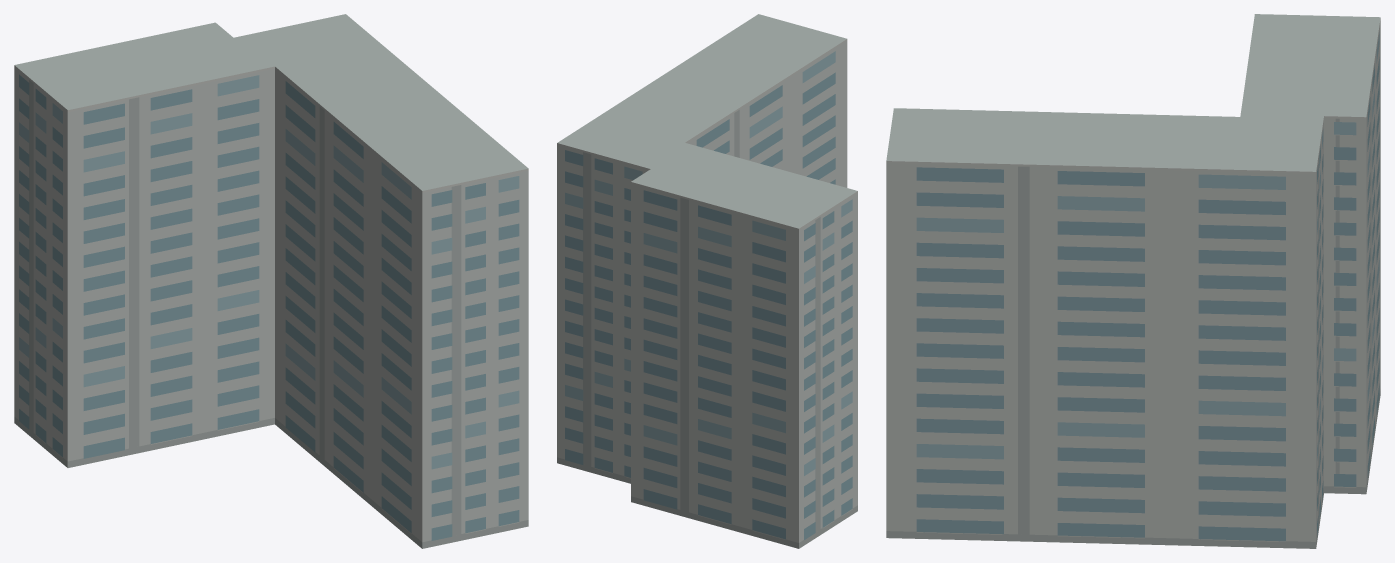
Rendered from residential-a2d40365-8eef-4145-beb3-9c060f50db8b.glb.
3 views of the same model, side by side, from view 1: azimuth 30°, elevation 25°; view 2: azimuth 150°, elevation 25°; view 3: azimuth 270°, elevation 25° (orthographic). The views are drawn at different scales.
Visible parts, largest first — view 1: residential-a2d40365-8eef-4145-beb3-9c060f50db8b.tmp; view 2: residential-a2d40365-8eef-4145-beb3-9c060f50db8b.tmp; view 3: residential-a2d40365-8eef-4145-beb3-9c060f50db8b.tmp.
Boxes of the visible parts, x1,y1,x2,y2 form: residential-a2d40365-8eef-4145-beb3-9c060f50db8b.tmp: (14, 14, 528, 548); residential-a2d40365-8eef-4145-beb3-9c060f50db8b.tmp: (557, 14, 857, 548); residential-a2d40365-8eef-4145-beb3-9c060f50db8b.tmp: (886, 14, 1380, 548).
Bounding box in the file's own units: 37.73 × 42 × 49.92.
